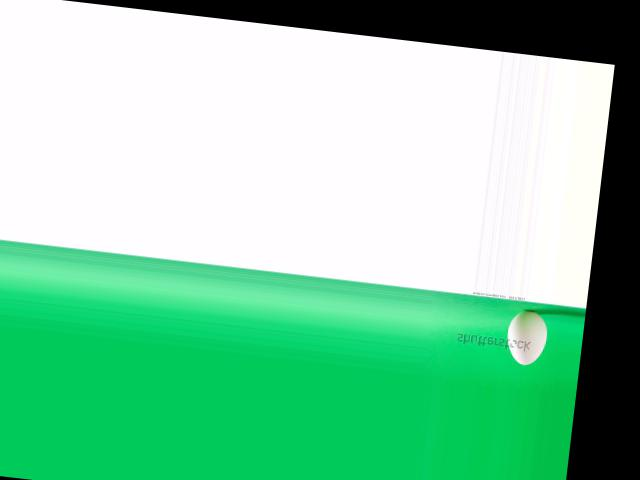egg: (504, 307, 550, 366)
